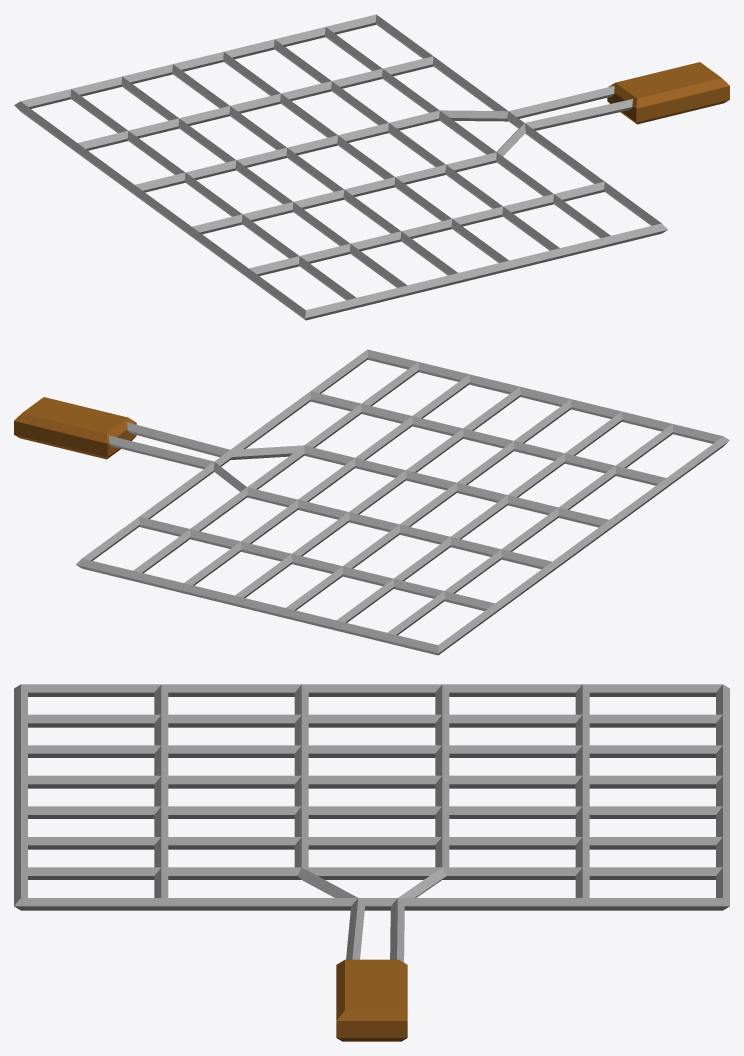
Rendered from Grill.fbx.
The picture shows the model from 3 angles, top to bottom: view 1: azimuth 30°, elevation 25°; view 2: azimuth 150°, elevation 25°; view 3: azimuth 270°, elevation 25°; orthographic projection. The views are drawn at different scales.
Visible parts, largest first — view 1: Plane; view 2: Plane; view 3: Plane.
Part boxes in pixels (left/top/right/bottom): Plane: left=14, top=14, right=729, bottom=320; Plane: left=14, top=349, right=729, bottom=655; Plane: left=14, top=684, right=729, bottom=1041.
Bounding box in the file's own units: 225 × 9.55 × 204.
